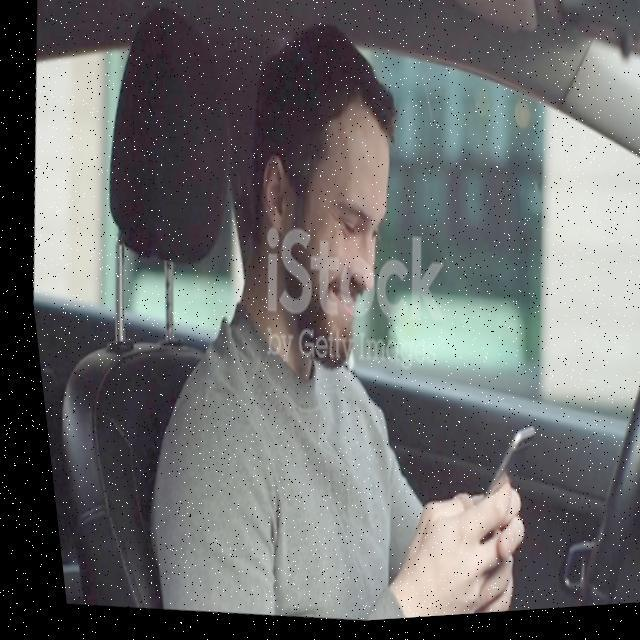PhoneCall: (456, 421, 532, 532)
